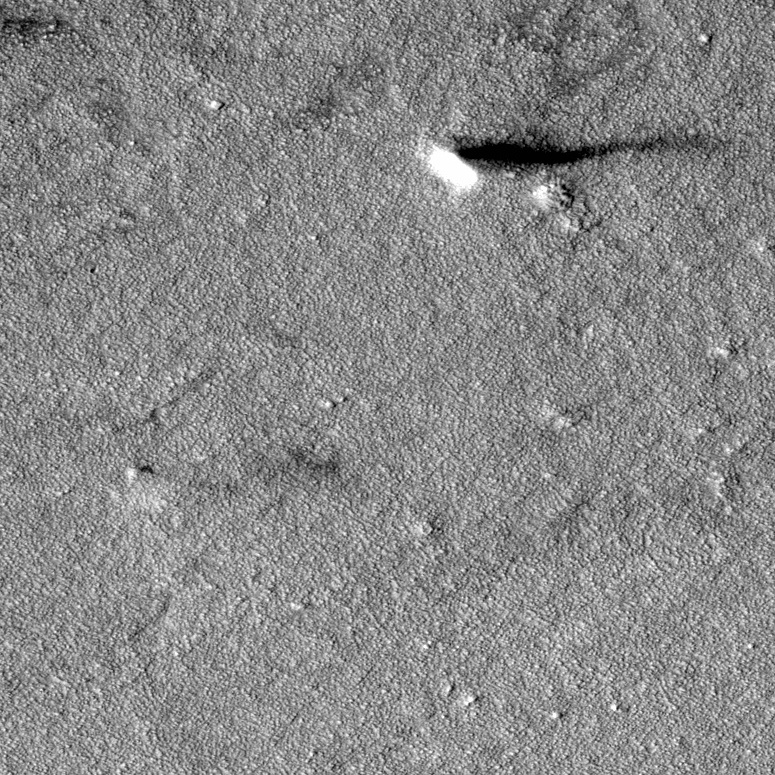dust_devil: (424, 128, 724, 193)
